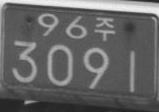0: (46, 43, 73, 87)
1: (120, 50, 144, 92)
3: (12, 39, 38, 83)
6: (65, 15, 87, 40)
9: (83, 46, 109, 89), (37, 12, 58, 36)
주: (94, 16, 116, 41)
